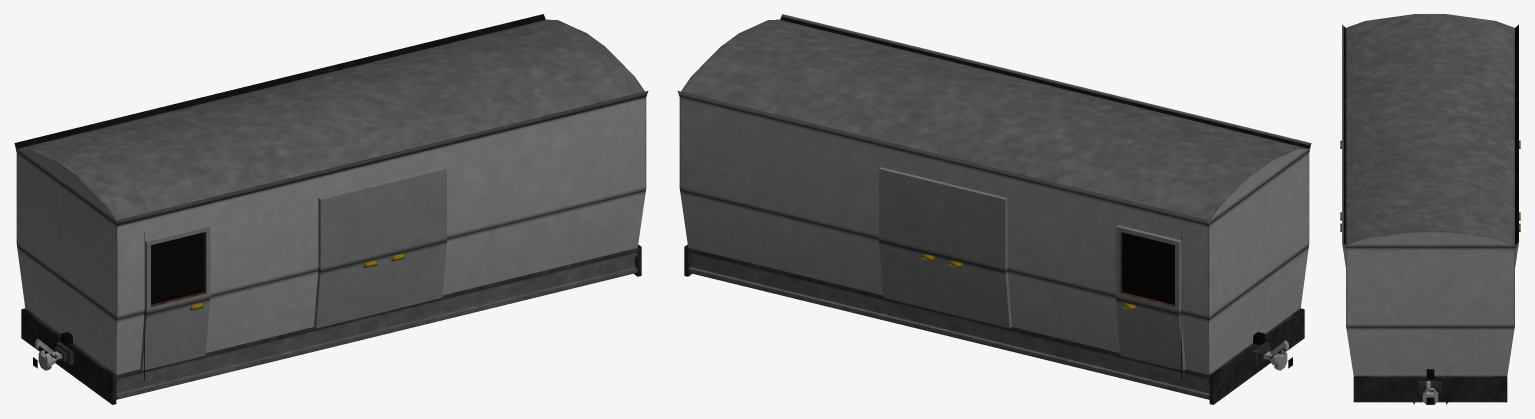
Rendered from kitsune_mk2_coach_baggage.obj.
3 renders of one model, left to right at view 1: azimuth 30°, elevation 25°; view 2: azimuth 150°, elevation 25°; view 3: azimuth 270°, elevation 25°, orthographic. The views are drawn at different scales.
Visible parts, largest first — view 1: FRAME_body, FRAME_body_roof, DOOR_1_EXTERNAL, DOOR_6_EXTERNAL_TL_-0.6875_X_CG_cargodoorleft, DOOR_3_EXTERNAL_TL_0.6875_X_CG_cargodoorleft, FRAME_3, FRAME_1, FRAME_2, FRAME_end1, FRAME_end2, COUPLER_ENGAGED_FRONT_1_TOGGLE_LABEL_Uncouple; view 2: FRAME_body, FRAME_body_roof, DOOR_2_EXTERNAL, DOOR_5_EXTERNAL_TL_-0.6875_X_CG_cargodoorright, DOOR_4_EXTERNAL_TL_0.6875_X_CG_cargodoorright, FRAME_3, FRAME_1, FRAME_2, FRAME_end1, FRAME_end2, COUPLER_ENGAGED_FRONT_1_TOGGLE_LABEL_Uncouple; view 3: FRAME_body_roof, FRAME_body, FRAME_end2, COUPLER_ENGAGED_REAR_2_TOGGLE_LABEL_Uncouple.
Part boxes in pixels (<box>): FRAME_body: <box>14,14,648,374</box>; FRAME_body_roof: <box>17,19,644,221</box>; DOOR_1_EXTERNAL: <box>140,225,210,370</box>; DOOR_6_EXTERNAL_TL_-0.6875_X_CG_cargodoorleft: <box>314,182,383,328</box>; DOOR_3_EXTERNAL_TL_0.6875_X_CG_cargodoorleft: <box>379,167,446,312</box>; FRAME_3: <box>450,256,604,317</box>; FRAME_1: <box>147,330,301,391</box>; FRAME_2: <box>299,293,451,354</box>; FRAME_end1: <box>21,308,149,404</box>; FRAME_end2: <box>602,245,641,280</box>; COUPLER_ENGAGED_FRONT_1_TOGGLE_LABEL_Uncouple: <box>33,342,73,370</box>; FRAME_body: <box>677,14,1311,374</box>; FRAME_body_roof: <box>681,19,1308,221</box>; DOOR_2_EXTERNAL: <box>1115,225,1185,370</box>; DOOR_5_EXTERNAL_TL_-0.6875_X_CG_cargodoorright: <box>942,182,1011,328</box>; DOOR_4_EXTERNAL_TL_0.6875_X_CG_cargodoorright: <box>879,167,946,312</box>; FRAME_3: <box>721,256,875,317</box>; FRAME_1: <box>1024,330,1178,391</box>; FRAME_2: <box>874,293,1026,354</box>; FRAME_end1: <box>1176,308,1304,404</box>; FRAME_end2: <box>684,245,723,280</box>; COUPLER_ENGAGED_FRONT_1_TOGGLE_LABEL_Uncouple: <box>1252,342,1292,370</box>; FRAME_body_roof: <box>1346,14,1514,245</box>; FRAME_body: <box>1342,24,1518,376</box>; FRAME_end2: <box>1353,376,1507,402</box>; COUPLER_ENGAGED_REAR_2_TOGGLE_LABEL_Uncouple: <box>1419,381,1441,404</box>.
Bounding box in the file's own units: 9.38 × 3.31 × 2.94.
5 materials, 5 textured.
